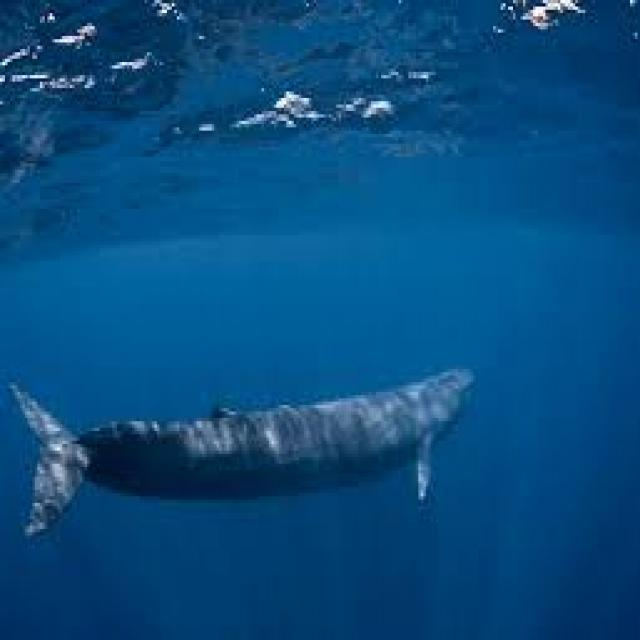blue_whale: (2, 352, 486, 634)
